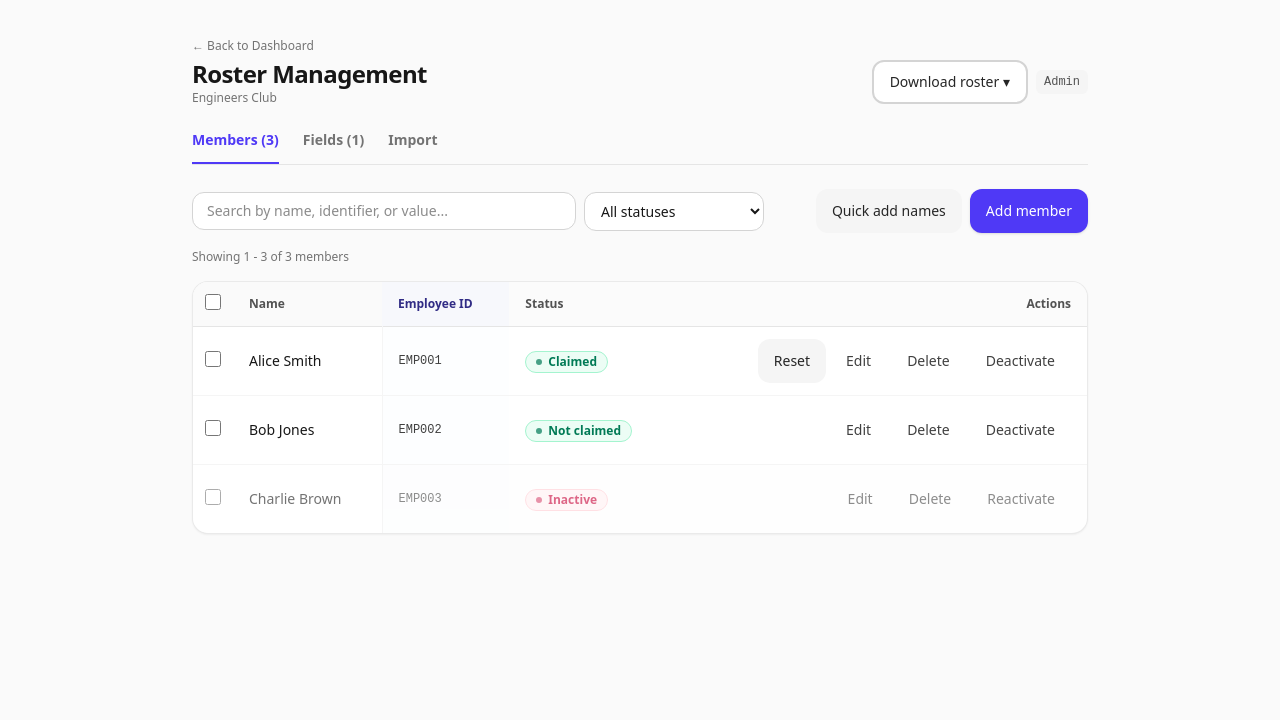
Test case: Part FB - Deletions, Bulk Selection, Roster Export, 404 Handling › Roster Page: Deletions, Bulk Actions, Export & Modal Escape › add and edit member modals close when Escape key is pressed
The width and height of the screenshot is (1280, 720).
Expected: the text "Alice Smith" is shown, top-left (233, 326), bottom-right (382, 396)
Open Add Member modal
Click the button "Add member": point(1029, 211) top-left (970, 189), bottom-right (1088, 233)
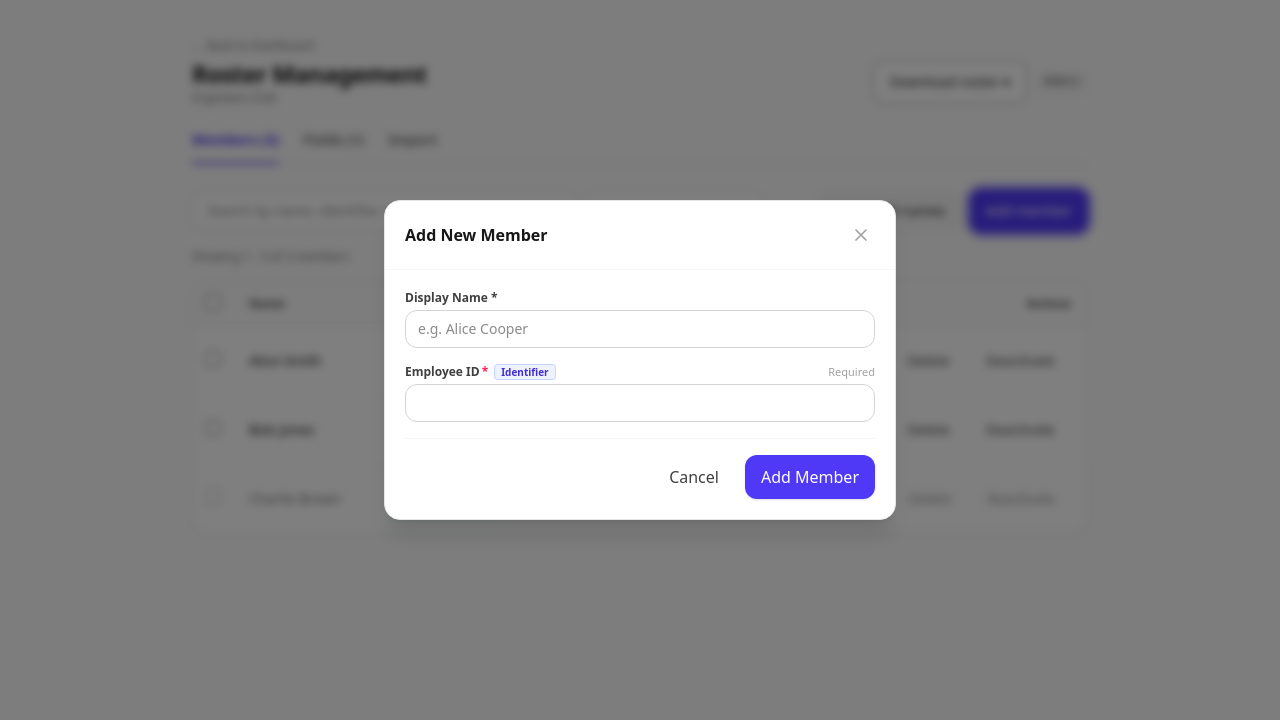
Result: the heading "Add New Member" is shown at top-left (405, 223), bottom-right (548, 247)
Press Escape
Press Escape
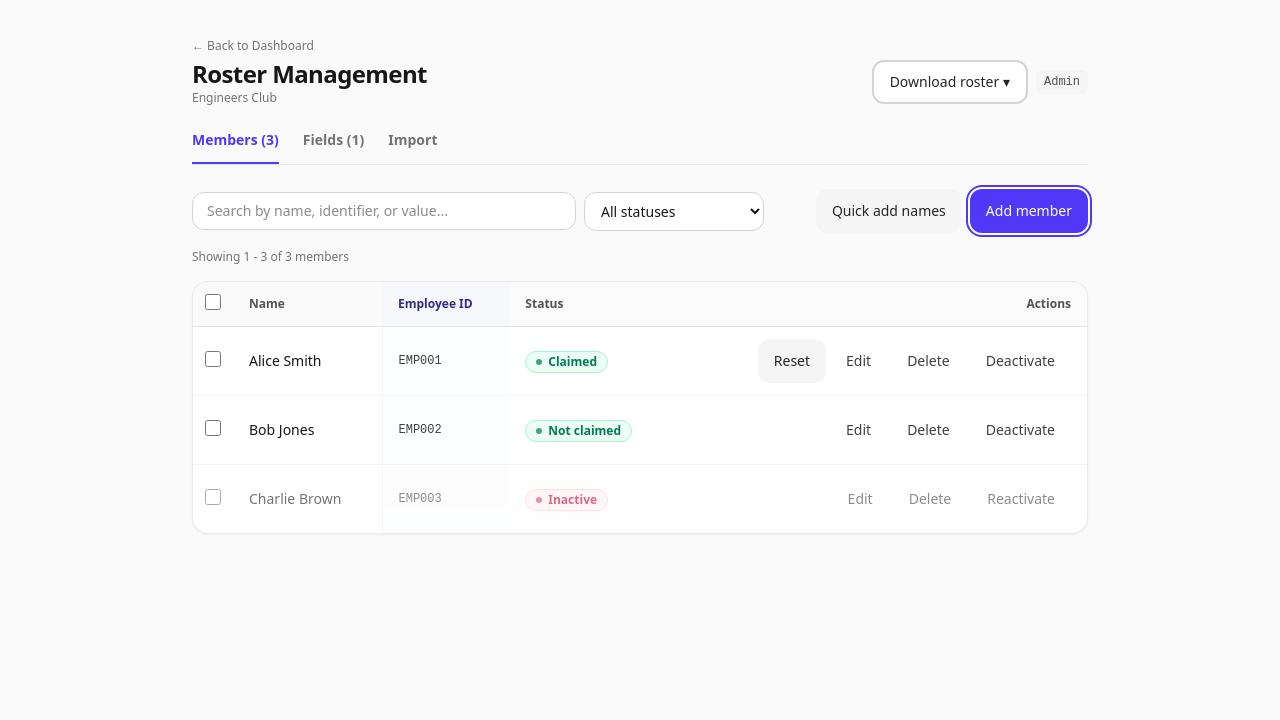
Result: the heading "Add New Member" is gone
Open Edit Member modal for Alice
Click the button "Edit" in the row of "Alice Smith": point(859, 361) top-left (830, 339), bottom-right (887, 383)
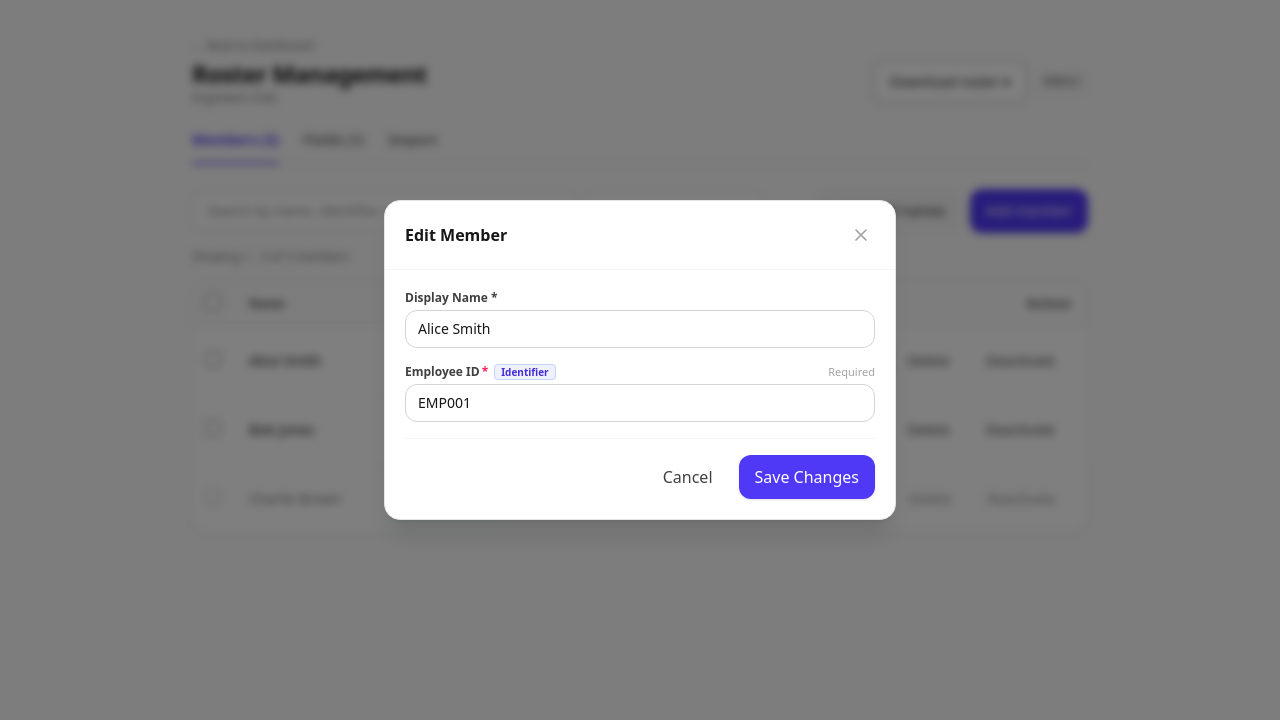
Result: the heading "Edit Member" is shown at top-left (405, 223), bottom-right (507, 247)
Press Escape
Press Escape
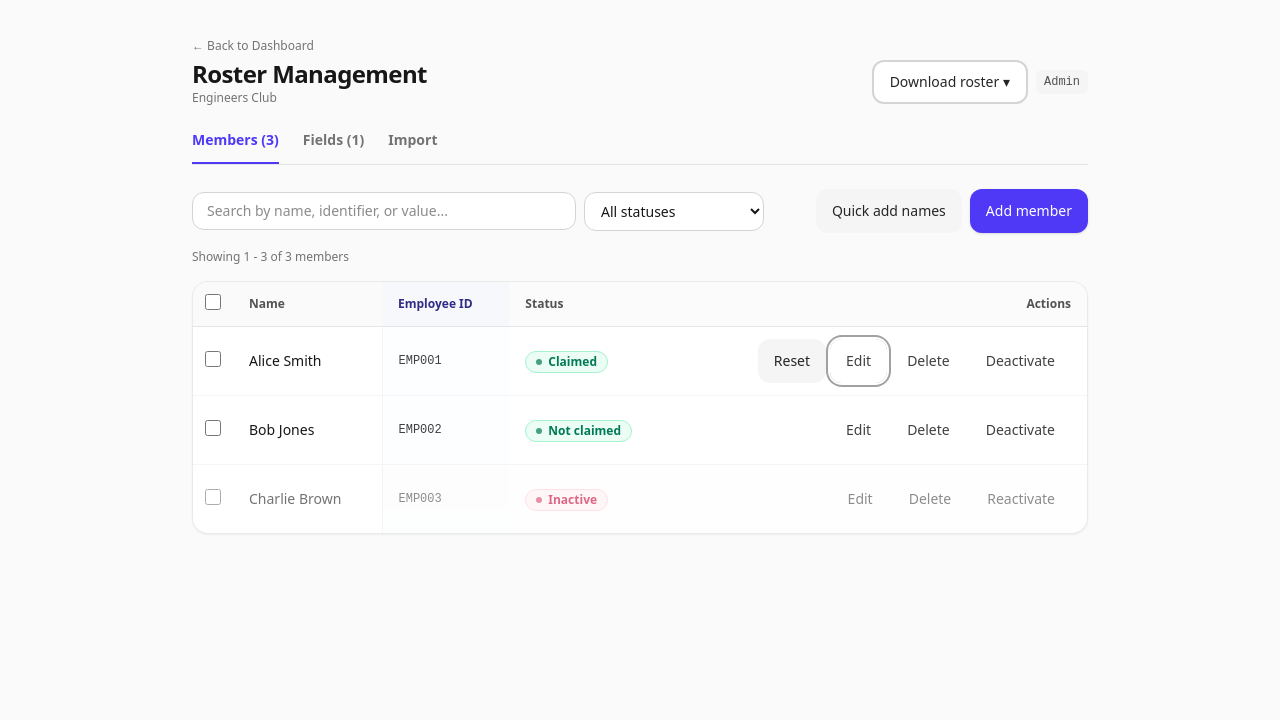
Result: the heading "Edit Member" is gone
